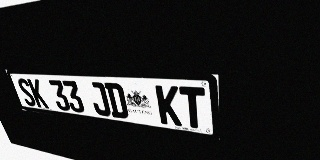3: (62, 80, 86, 113), (48, 80, 71, 111)
D: (104, 82, 129, 119)
J: (87, 82, 112, 117)
K: (155, 85, 182, 126), (27, 79, 49, 108)
S: (16, 78, 37, 107)
T: (179, 86, 206, 130)
